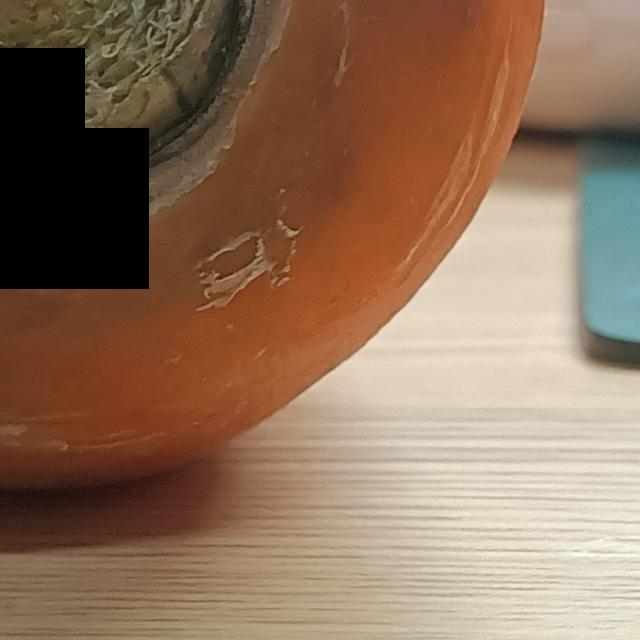carrot: (1, 1, 565, 498)
